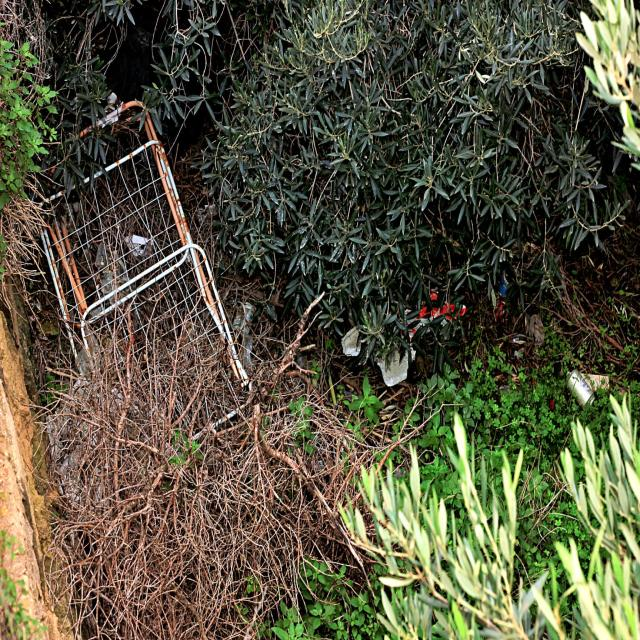Bottle cap: (550, 399, 554, 411)
Can: (565, 366, 596, 411)
Other litter: (30, 99, 257, 483), (580, 372, 609, 393)
Other plastic: (375, 291, 471, 394), (494, 271, 512, 320)
Styrofoam piece: (341, 324, 362, 365)
